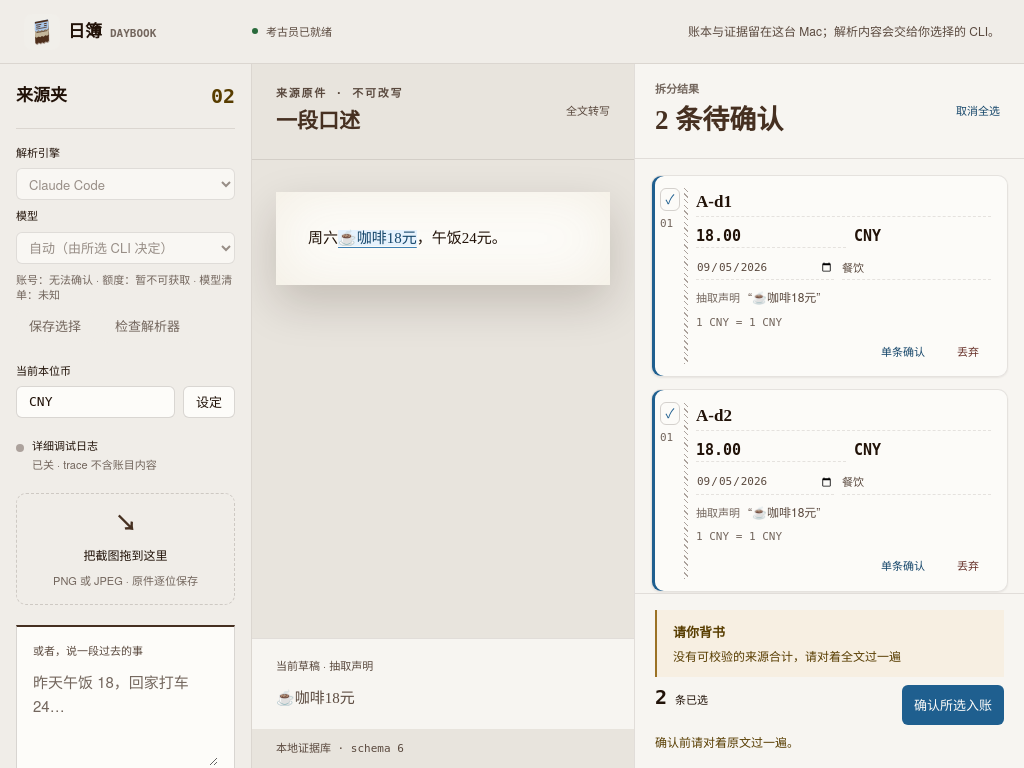
编辑失败后重试保存同一输入，成功后清除缓冲并恢复确认
Replace the text in the 1st field showing "A-d1" with "核对后的商户" at [844, 202], box [696,188,991,217]
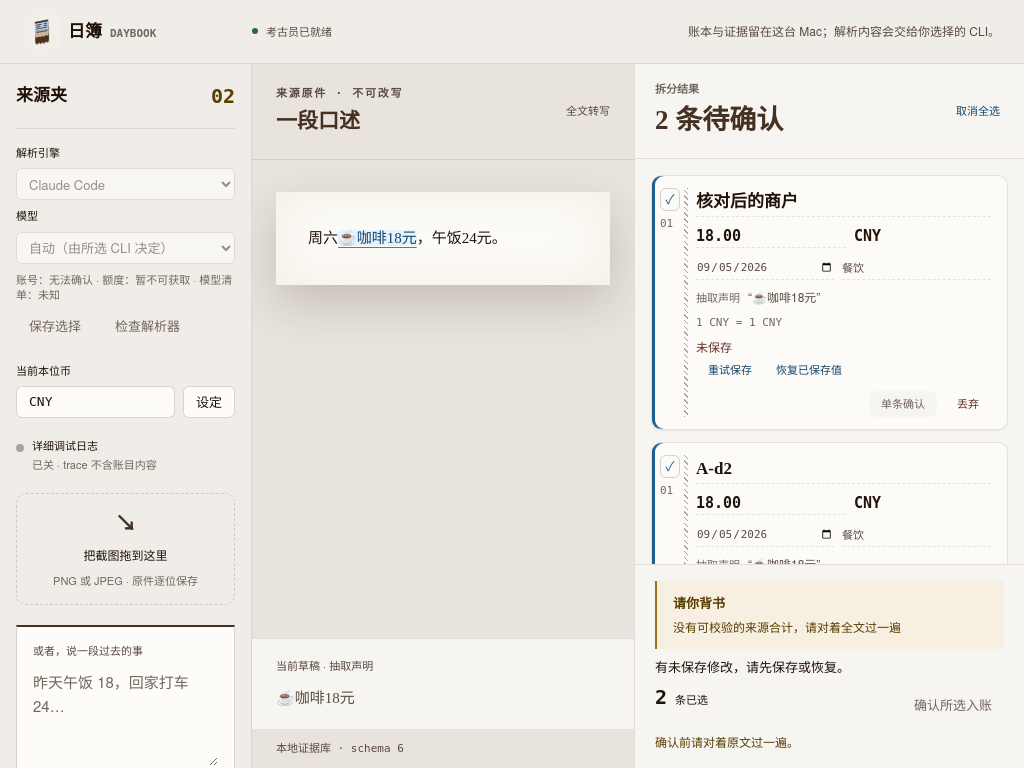
Leave the 1st field showing "A-d1", box [696,188,991,217]
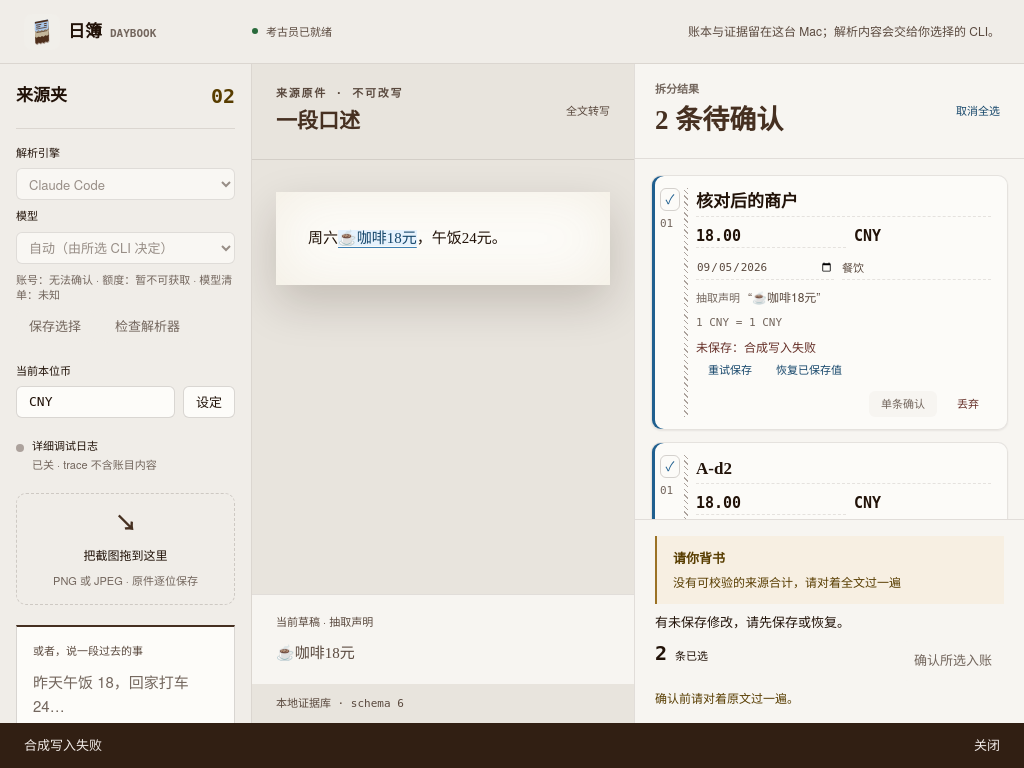
Check: the text "未保存：合成写入失败" is shown, box [696,338,816,356]
Click the button "重试保存".
click(730, 370)  # box [696,357,764,383]
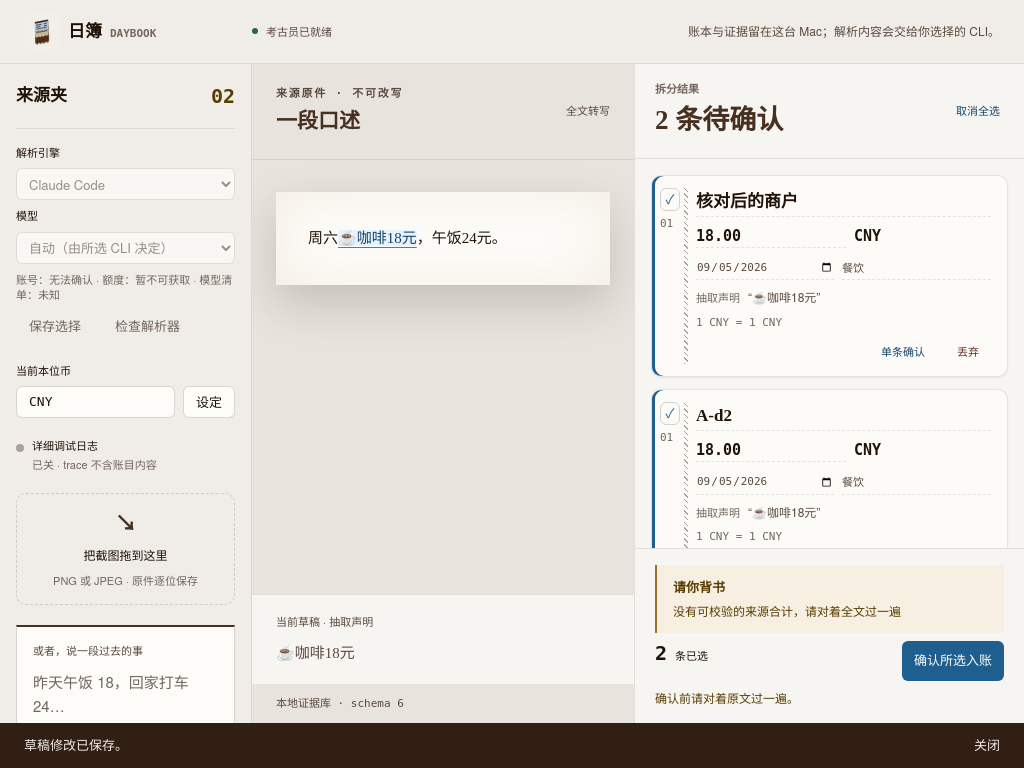
Check: the button "重试保存" is gone
